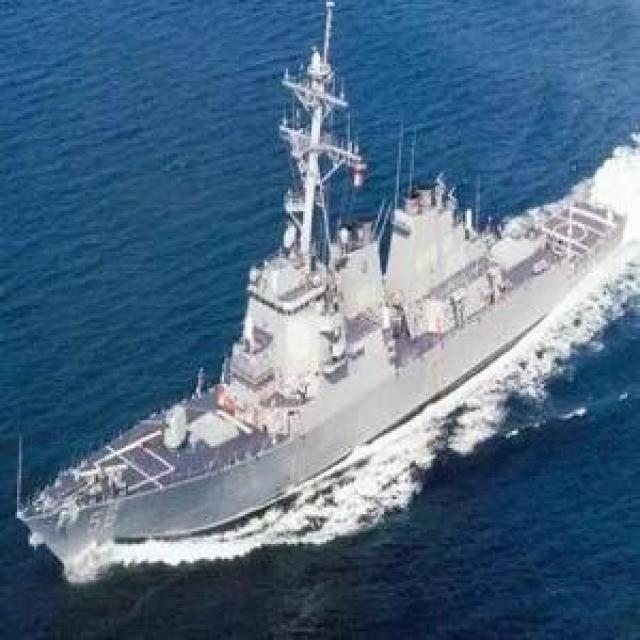navalvessels: (15, 14, 626, 572)
